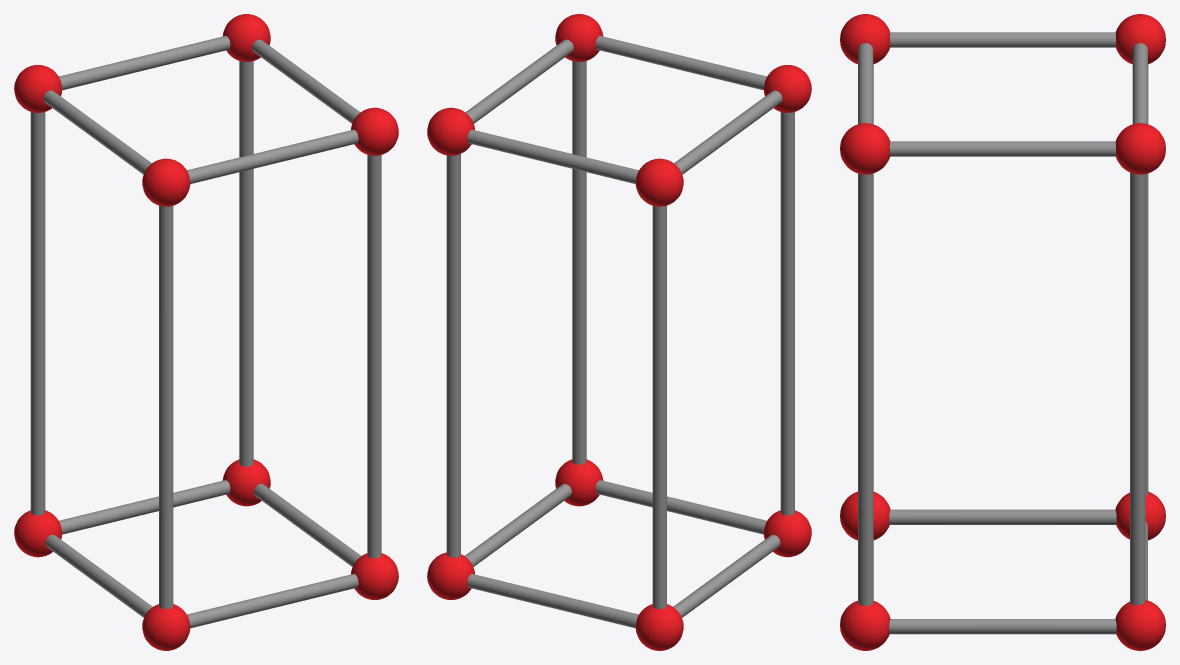
3 renders of one model, left to right at view 1: azimuth 30°, elevation 25°; view 2: azimuth 150°, elevation 25°; view 3: azimuth 270°, elevation 25°, orthographic. The views are drawn at different scales.
Parts seen in each view (by area): view 1: Цилиндр_Node (×12), Сферы_Node (×8); view 2: Цилиндр_Node (×12), Сферы_Node (×8); view 3: Цилиндр_Node (×9), Сферы_Node (×8).
Boxes of the visible parts, <box> form: Цилиндр_Node (×12): <box>30,36,381,628</box>; Сферы_Node (×8): <box>14,14,398,650</box>; Цилиндр_Node (×12): <box>446,36,794,628</box>; Сферы_Node (×8): <box>427,14,811,650</box>; Цилиндр_Node (×9): <box>858,32,1148,634</box>; Сферы_Node (×8): <box>840,14,1165,650</box>.
Size of the model in its own units: 2.36 by 4.4 by 2.48.
13 materials, 1 textured.
